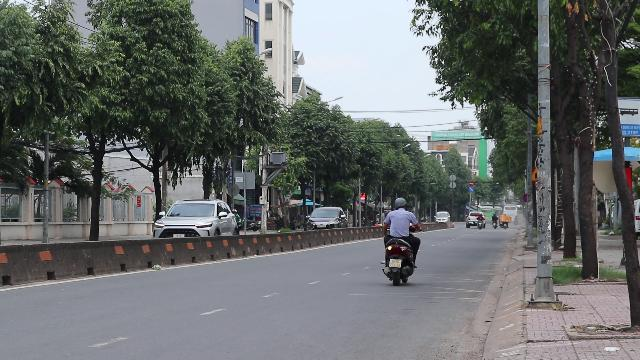helmet: (392, 197, 406, 209)
licenseplate: (388, 258, 402, 267)
motorcyclist: (378, 195, 420, 284)
